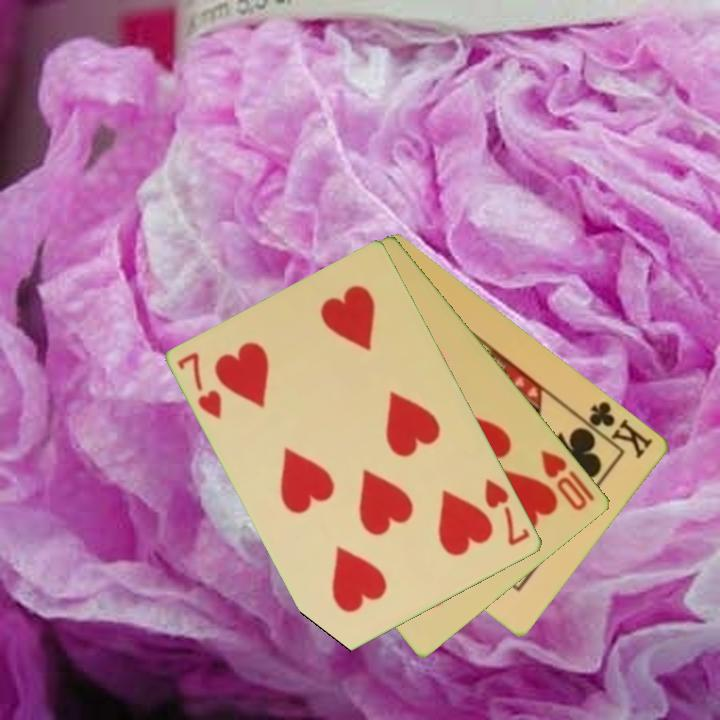10h: (537, 446, 598, 514)
7h: (481, 475, 533, 549), (174, 349, 226, 422)
Kc: (576, 397, 657, 462)
